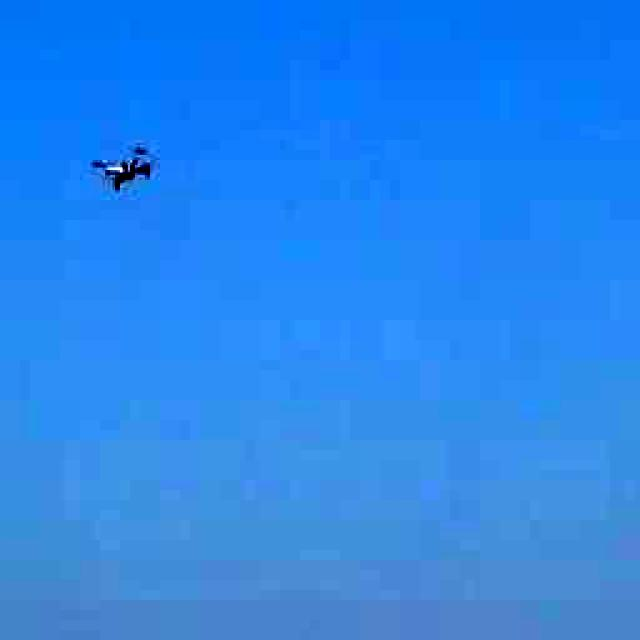bird: (82, 138, 172, 202)
